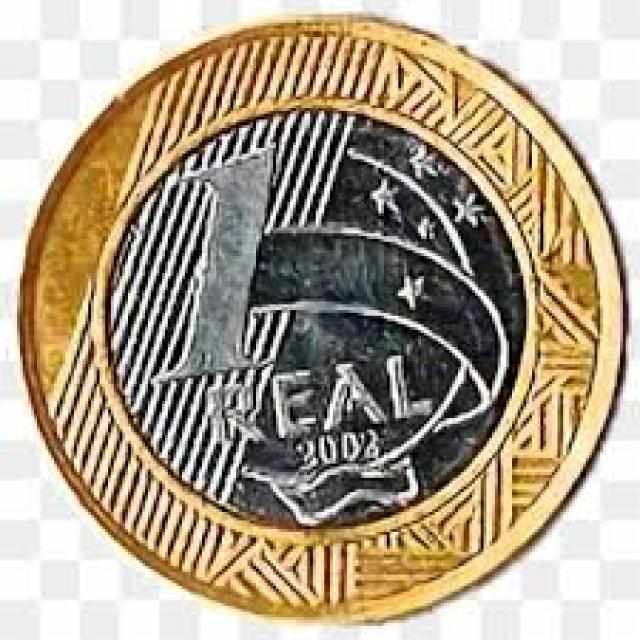1 real: (23, 20, 628, 623)
